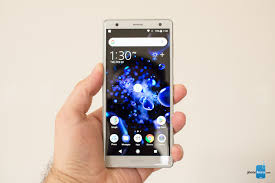sony: (100, 13, 175, 168)
